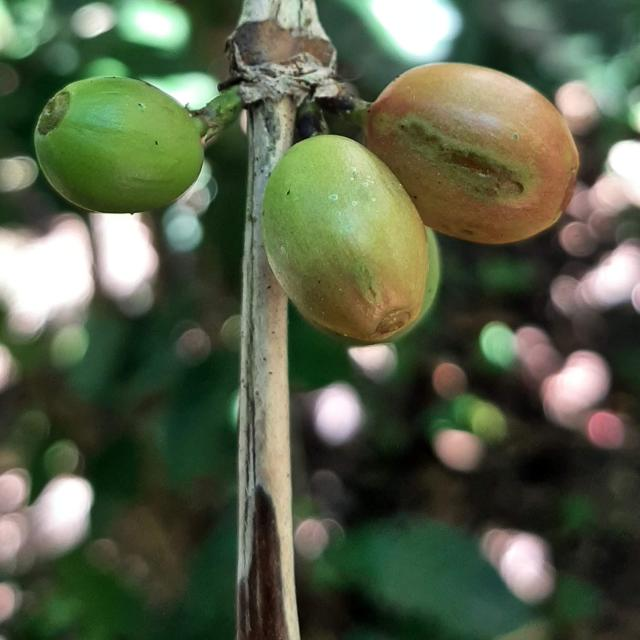green: (33, 76, 203, 213)
yellow: (366, 62, 580, 244), (262, 135, 429, 343)
